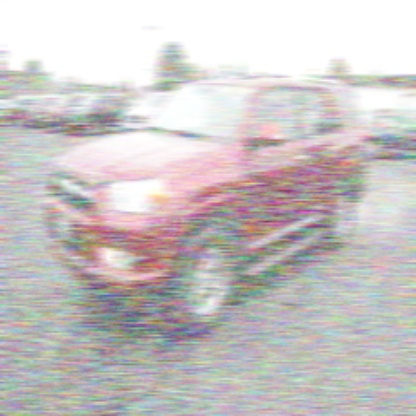Vehicle: (45, 74, 369, 343)
